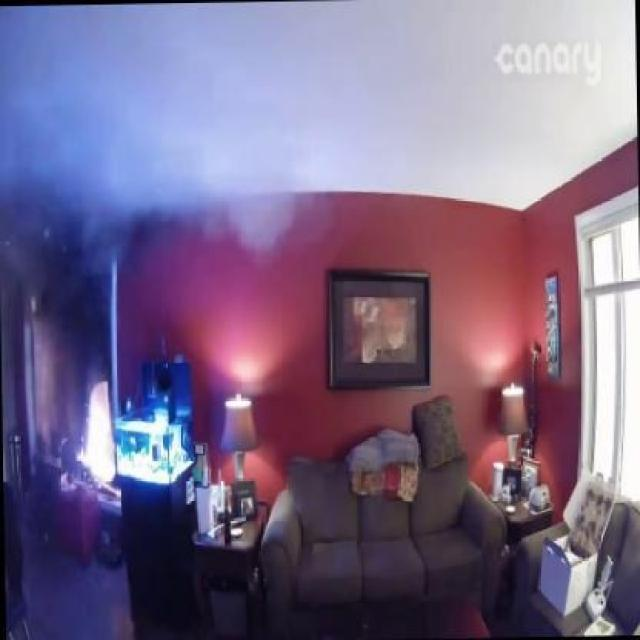smoke: (2, 4, 300, 265)
